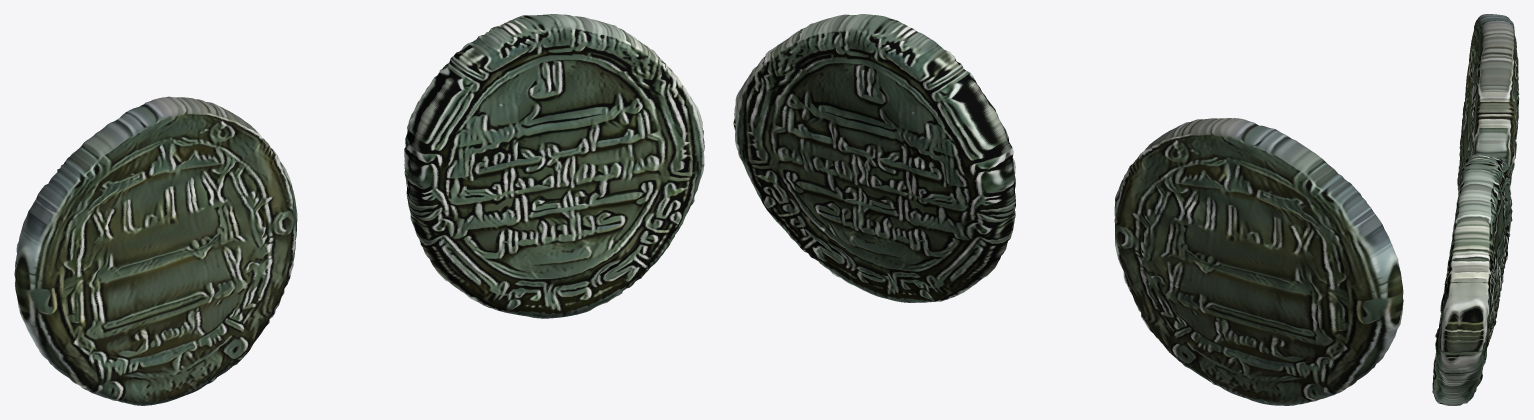
The model's file is kfl-2236.glb.
The picture shows the model from 3 angles, left to right: view 1: azimuth 30°, elevation 25°; view 2: azimuth 150°, elevation 25°; view 3: azimuth 270°, elevation 25°; orthographic projection. The views are drawn at different scales.
Visible parts, largest first — view 1: kfl-2236; view 2: kfl-2236; view 3: kfl-2236.
Part boxes in pixels (left/top/right/bottom): kfl-2236: left=14, top=14, right=704, bottom=405; kfl-2236: left=733, top=14, right=1403, bottom=405; kfl-2236: left=1432, top=14, right=1519, bottom=405.
Bounding box in the file's own units: 0.9934 × 0.41 × 0.1402.
1 material, 1 textured.
